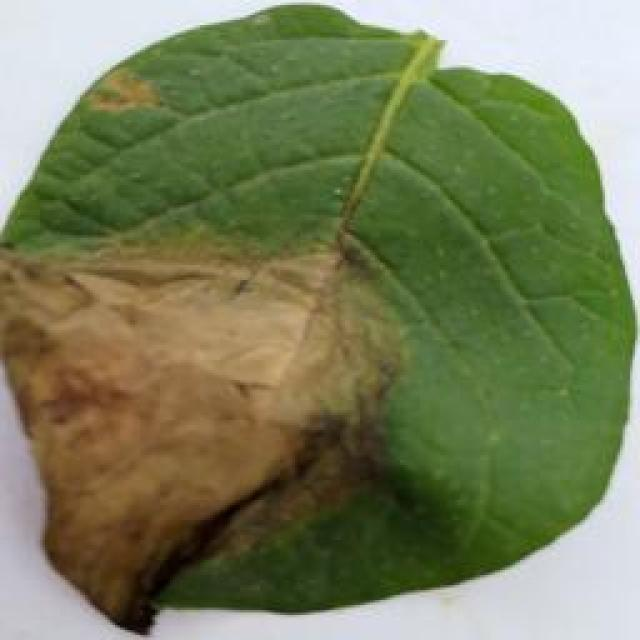Potato_Late_Blight: (5, 9, 640, 636)
